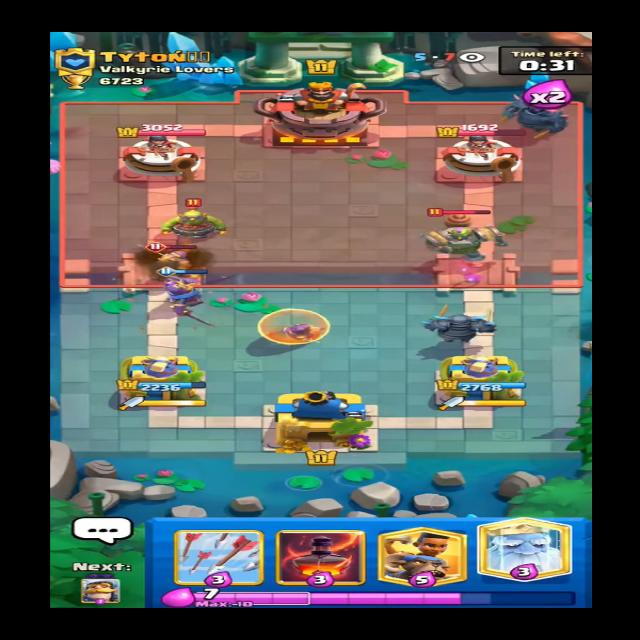evo-knight: (136, 240, 208, 282)
goblin-demolisher: (155, 201, 237, 242)
goblin-machine: (416, 205, 508, 254)
pekka: (499, 95, 583, 134)
